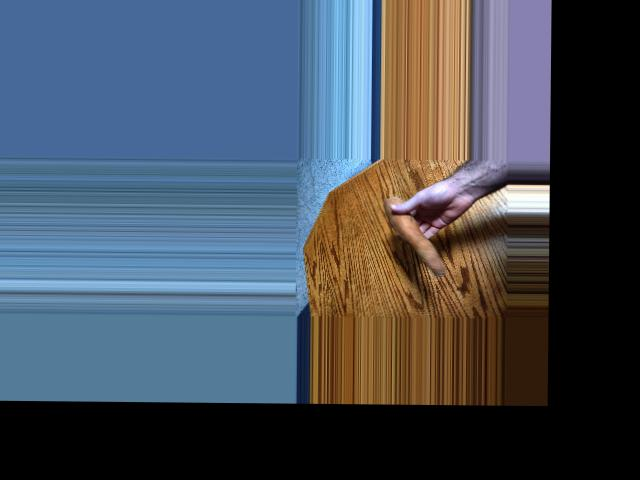sweet_potato: (387, 197, 448, 275)
